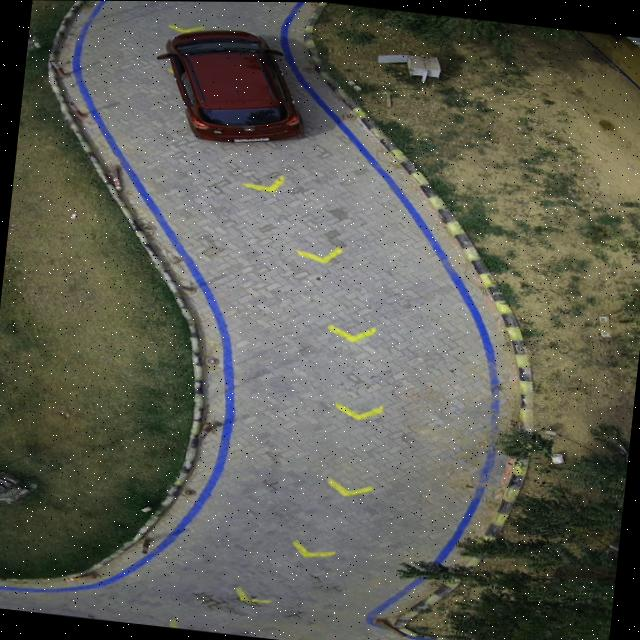car: (156, 28, 301, 141)
